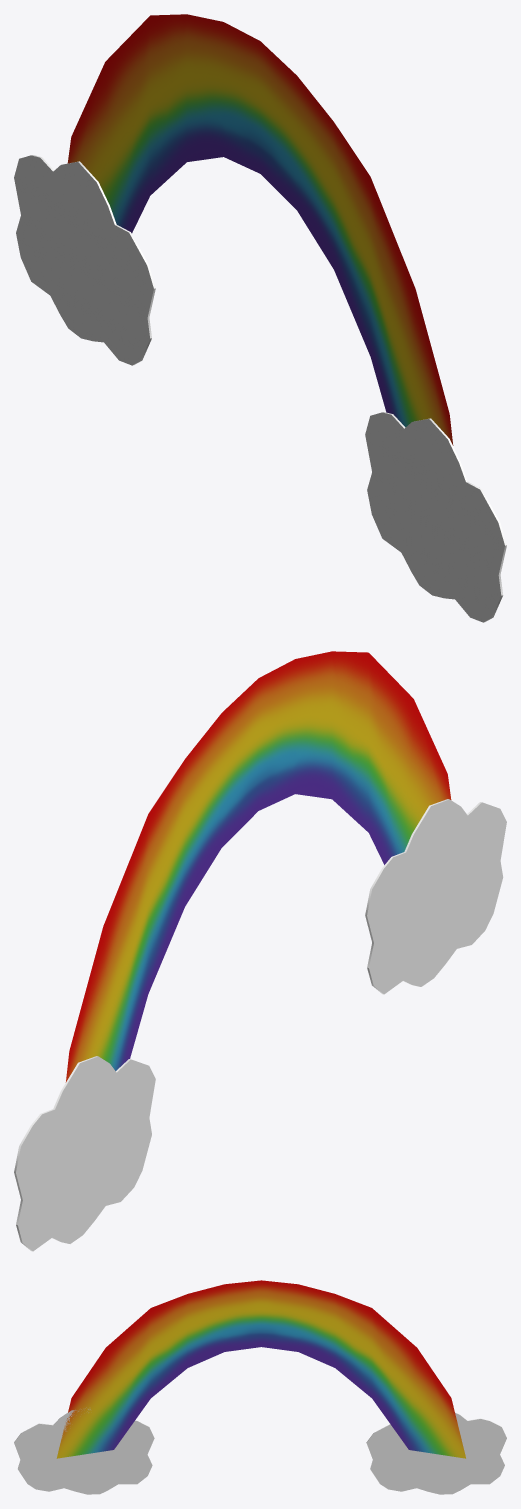
The model's file is Rainbow_Wall.fbx.
3 views of the same model, one above another, from view 1: azimuth 30°, elevation 25°; view 2: azimuth 150°, elevation 25°; view 3: azimuth 270°, elevation 25° (orthographic). The views are drawn at different scales.
Visible parts, largest first — view 1: Plane003, Plane001, Plane002; view 2: Plane003, Plane002, Plane001; view 3: Plane003, Plane001, Plane002.
Boxes of the visible parts, <box> form: Plane003: <box>67,14,453,445</box>; Plane001: <box>14,155,155,365</box>; Plane002: <box>365,412,506,622</box>; Plane003: <box>65,651,451,1082</box>; Plane002: <box>365,799,506,994</box>; Plane001: <box>14,1056,155,1251</box>; Plane003: <box>56,1280,465,1458</box>; Plane001: <box>366,1412,506,1494</box>; Plane002: <box>14,1407,154,1494</box>.
Bounding box in the file's own units: 1 × 216 × 450.
Materials: 2 (1 with a texture image).
